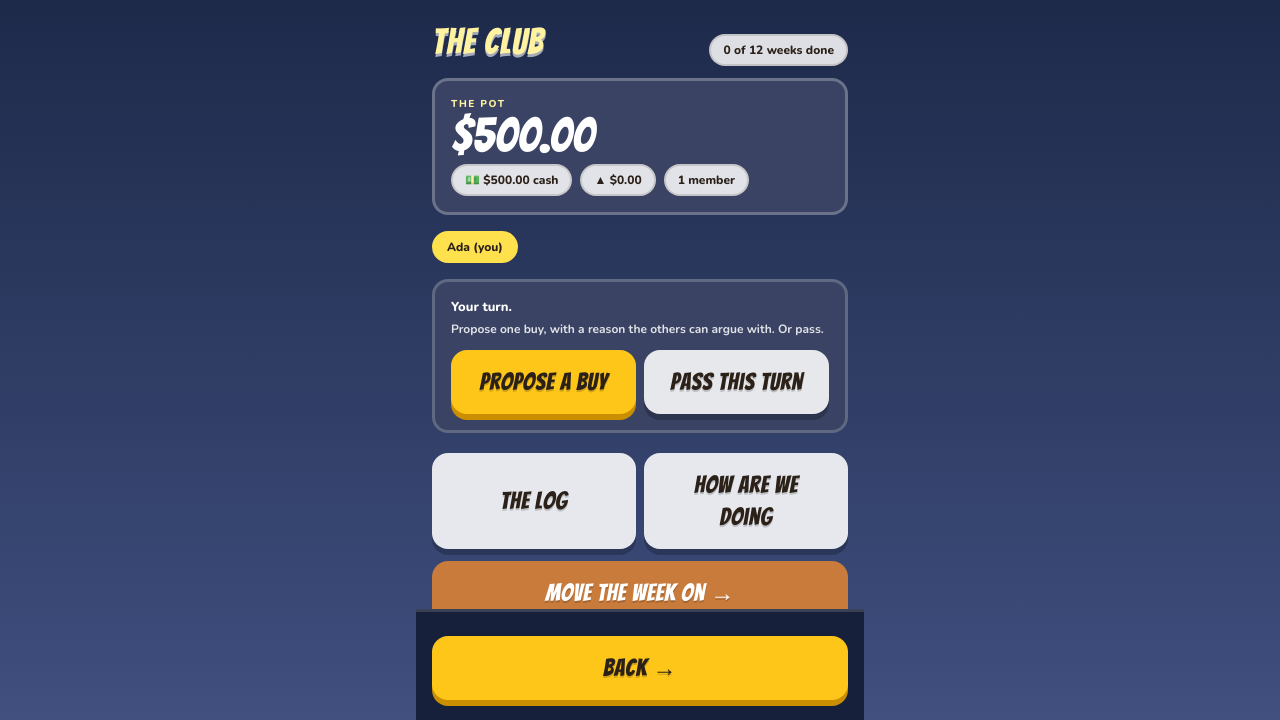
Test: the club's scoreboard is a readout › offers nothing to decide, because the deciding was proposing and voting
Click the button "How are we doing": [746, 500] box left=644, top=452, right=848, bottom=548
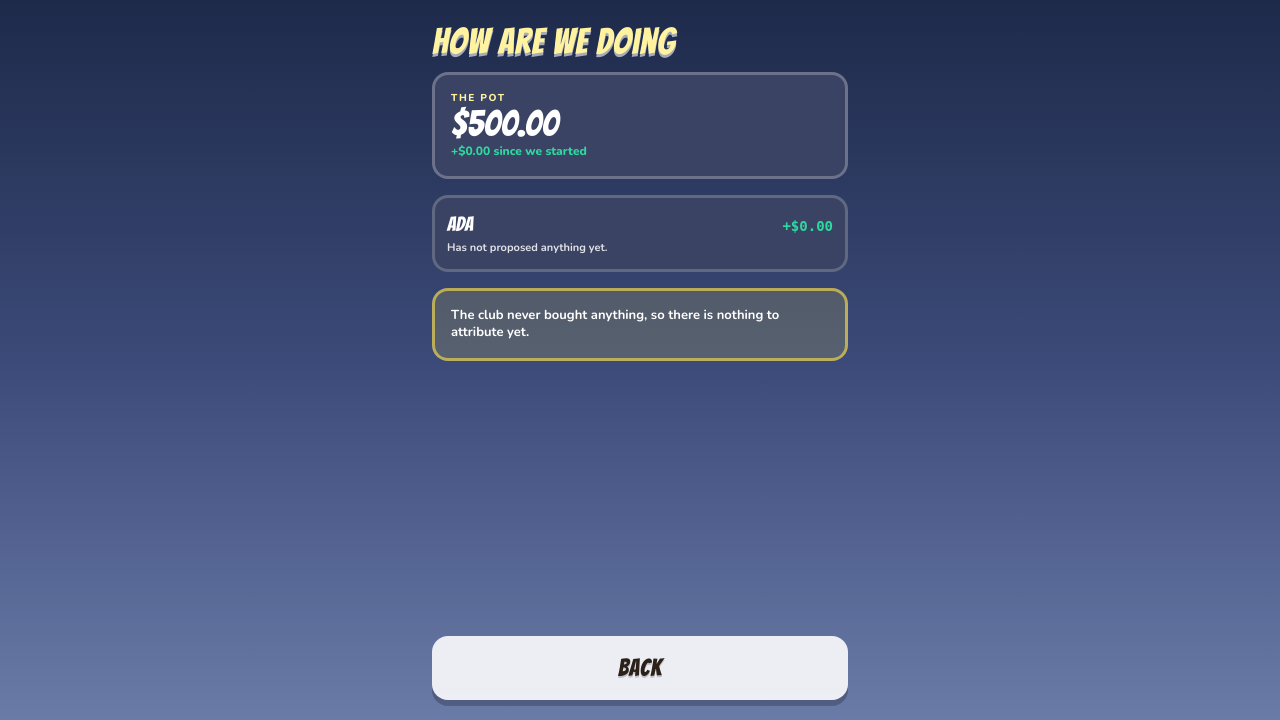
Result: the heading "How are we doing" is shown at left=432, top=22, right=676, bottom=61
